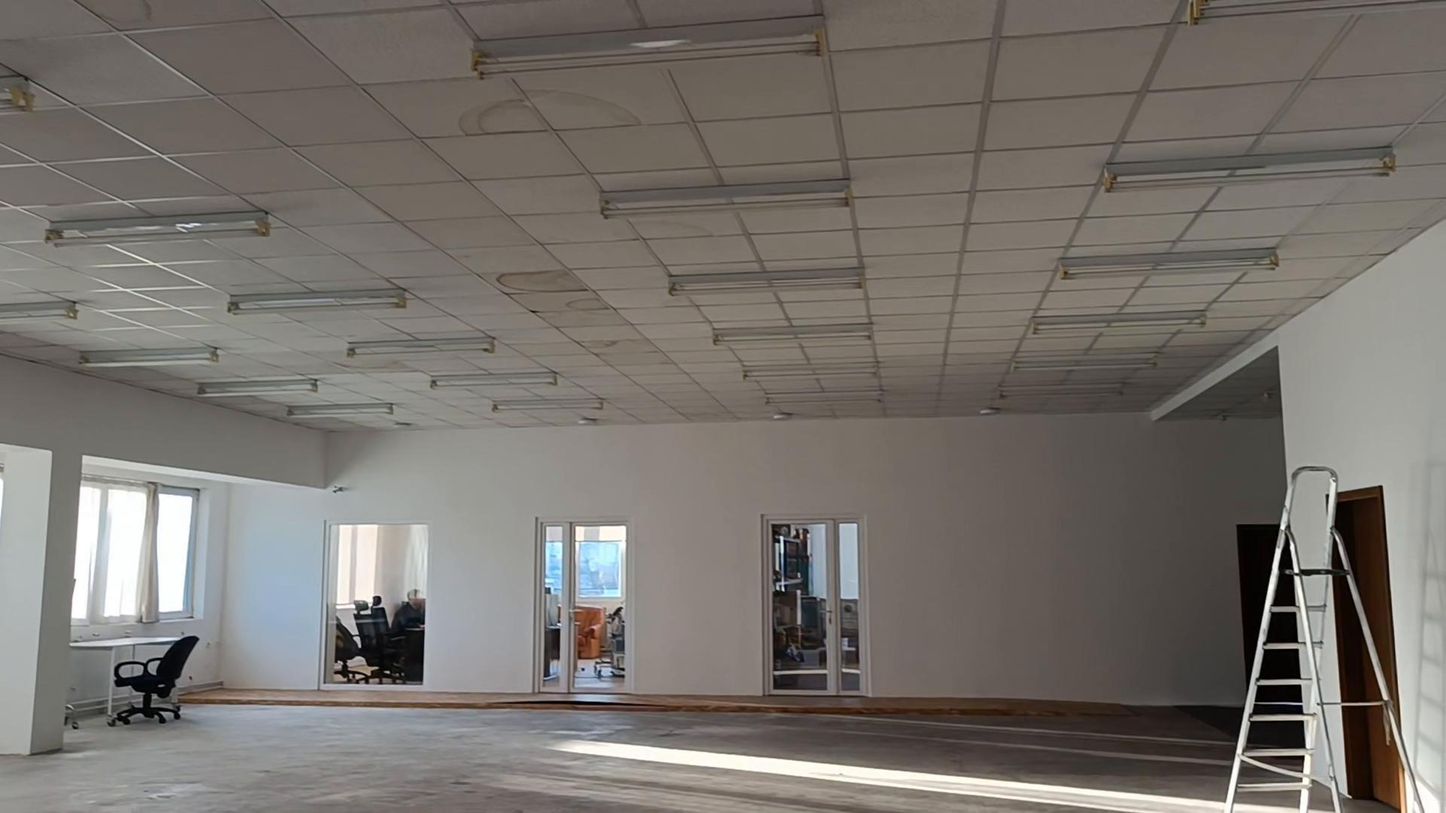ceiling: (0, 0, 1445, 427)
floor: (0, 699, 1238, 812)
wall: (225, 417, 1283, 700), (1151, 228, 1443, 809), (0, 364, 326, 757)
